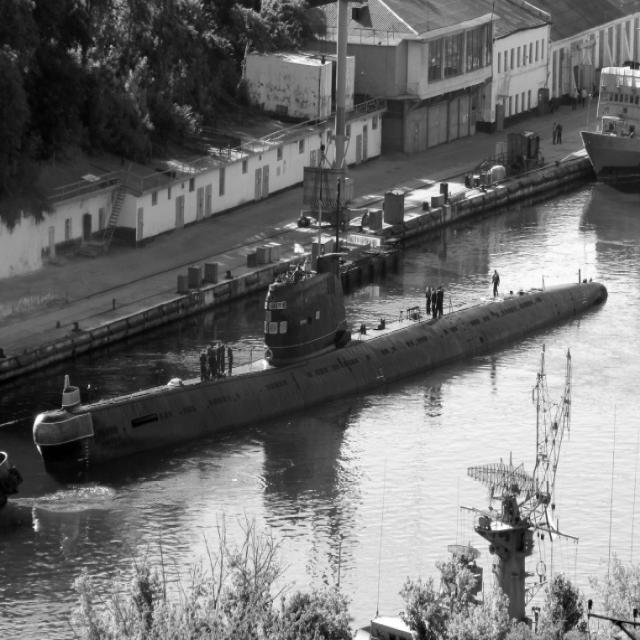submarine: (53, 222, 610, 489)
